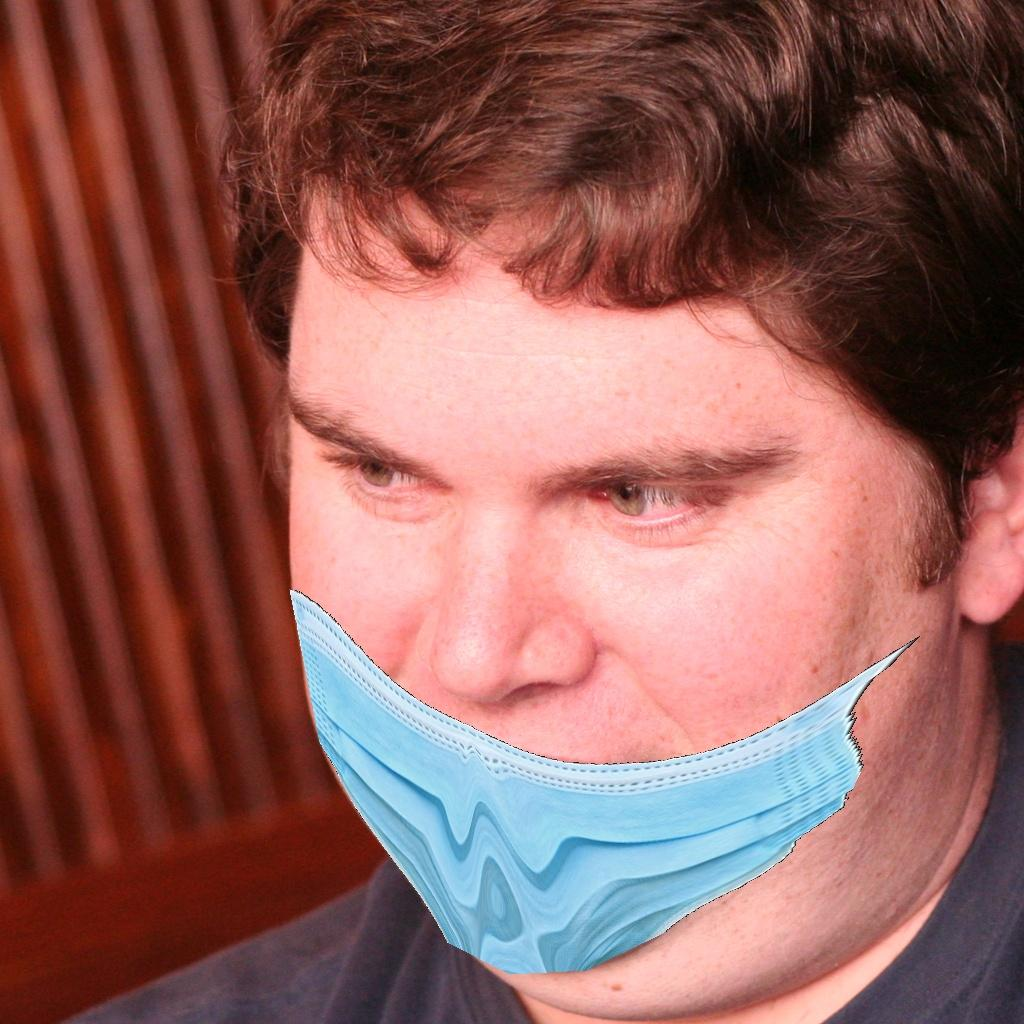Máscara Incorreta: (270, 361, 899, 941)
